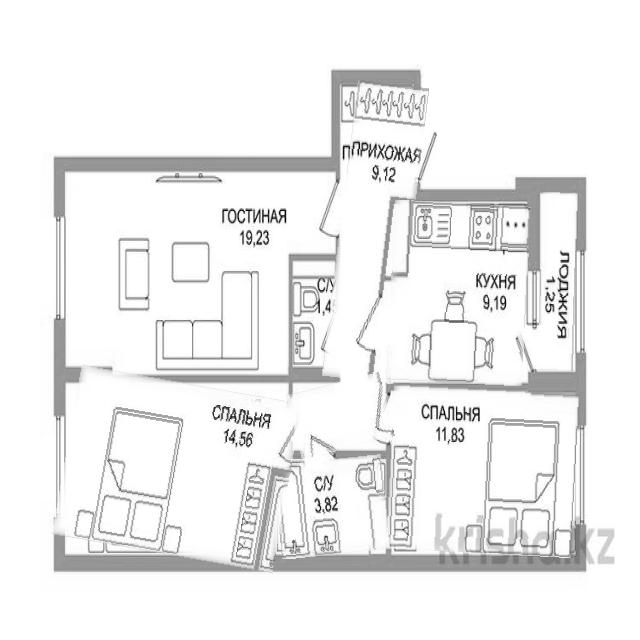balcony: (538, 193, 578, 371)
bathroom: (273, 454, 390, 559)
hallway: (322, 80, 429, 382), (286, 374, 395, 459)
kitchen: (386, 201, 531, 386)
living_room: (65, 171, 336, 375), (52, 366, 302, 570), (388, 384, 582, 558)
